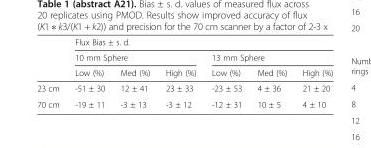table: (36, 36, 332, 109)
table column: (66, 36, 112, 109), (157, 36, 203, 109), (248, 36, 294, 109), (112, 36, 157, 109), (203, 36, 248, 109), (294, 36, 332, 109), (36, 36, 66, 109)
table column header: (36, 36, 332, 79)
table row: (36, 79, 332, 95), (36, 49, 332, 64), (36, 64, 332, 79), (36, 95, 332, 109), (36, 36, 332, 49)
table spanning cell: (66, 36, 332, 49), (66, 49, 203, 64), (203, 49, 332, 64)
